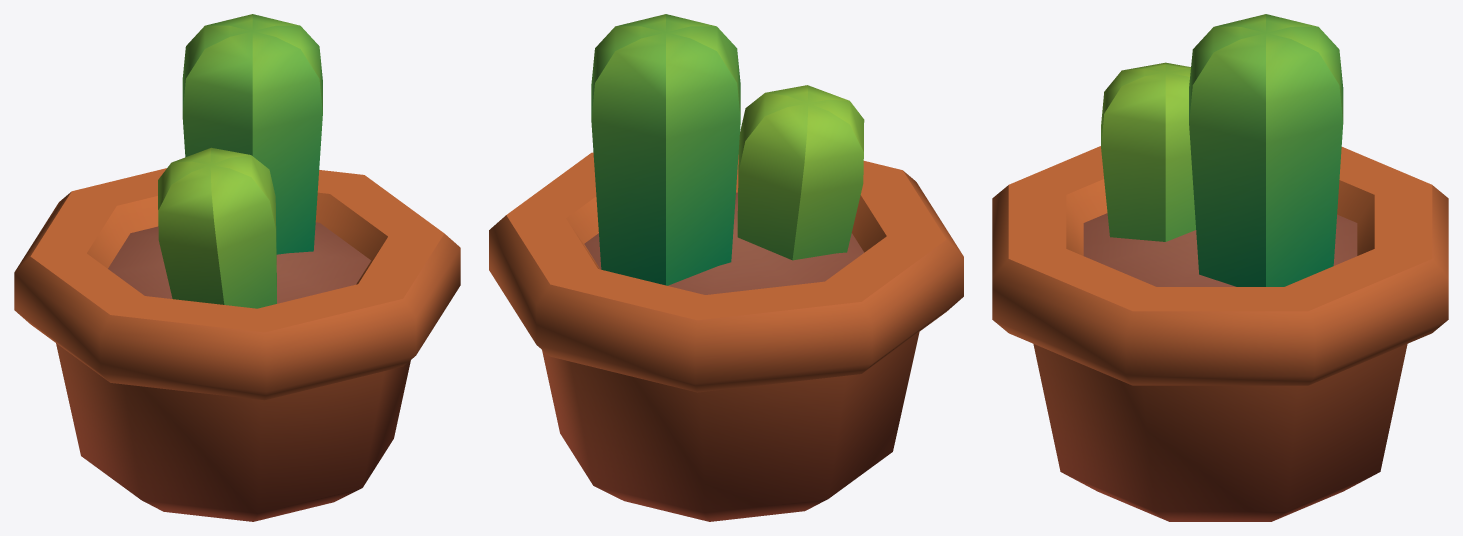
3 renders of one model, left to right at view 1: azimuth 30°, elevation 25°; view 2: azimuth 150°, elevation 25°; view 3: azimuth 270°, elevation 25°, orthographic. The views are drawn at different scales.
Parts seen in each view (by area): view 1: cactus_small_A; view 2: cactus_small_A; view 3: cactus_small_A.
Part boxes in pixels (<box>): cactus_small_A: <box>14,14,460,521</box>; cactus_small_A: <box>489,14,963,521</box>; cactus_small_A: <box>992,14,1448,521</box>.
Bounding box in the file's own units: 0.5 × 0.5516 × 0.5.
Materials: 1 (1 with a texture image).
